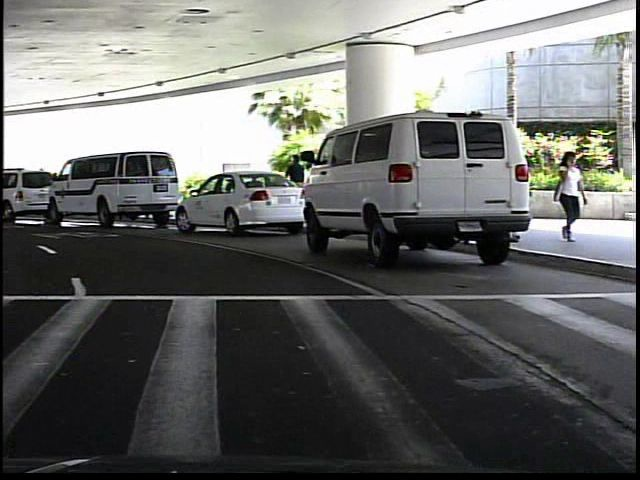person: (549, 148, 588, 243), (281, 149, 313, 214)
